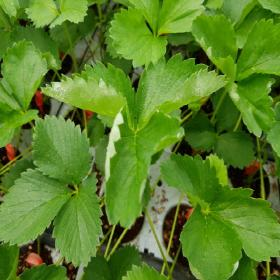Powdery Mildew Leaf: (104, 103, 185, 229), (136, 52, 229, 130), (39, 59, 136, 130), (178, 202, 244, 279), (232, 72, 278, 139)
